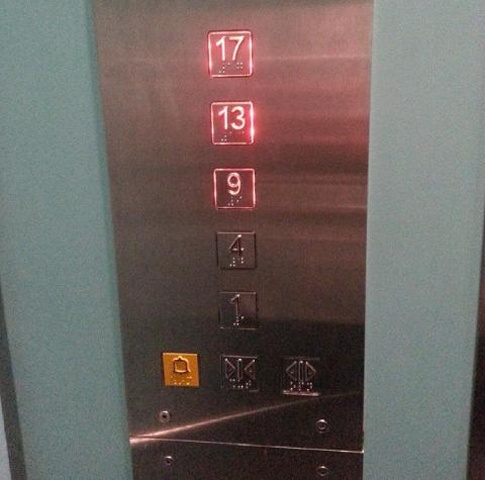1: (213, 286, 259, 333)
13: (208, 98, 256, 147)
17: (204, 27, 256, 80)
4: (213, 226, 259, 273)
9: (211, 164, 259, 212)
alarm: (159, 349, 202, 390)
close: (216, 350, 262, 397)
open: (277, 352, 323, 399)
